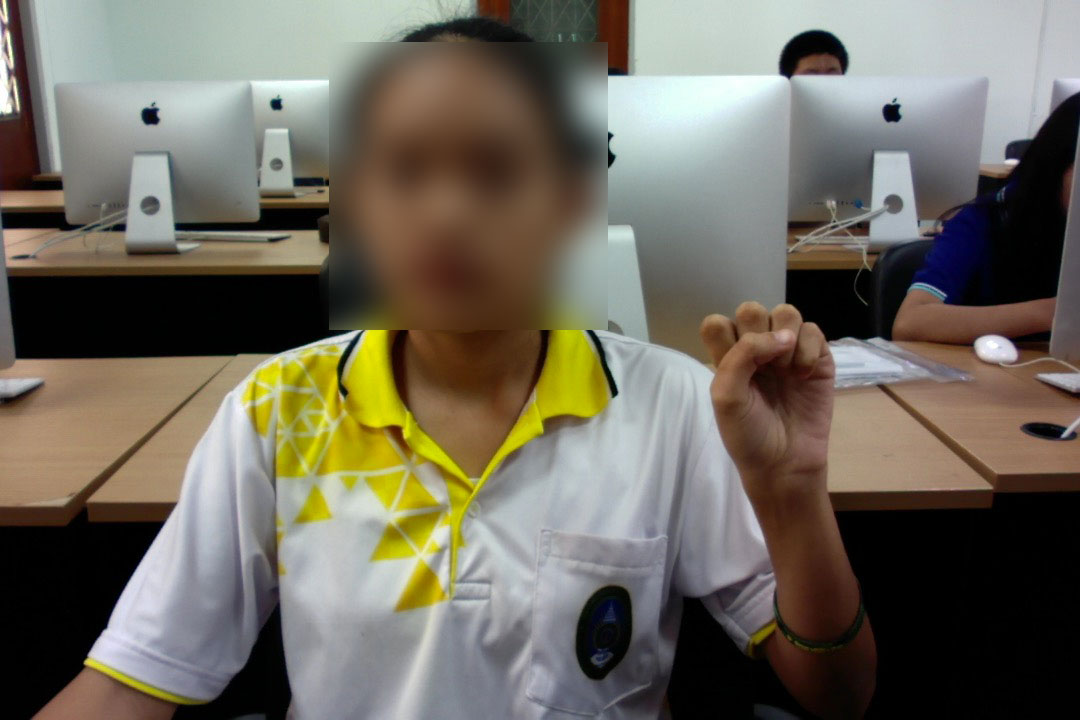sor: (692, 287, 841, 514)
